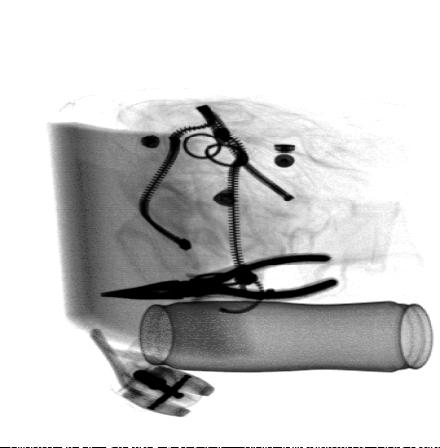Pliers: (97, 251, 344, 302)
